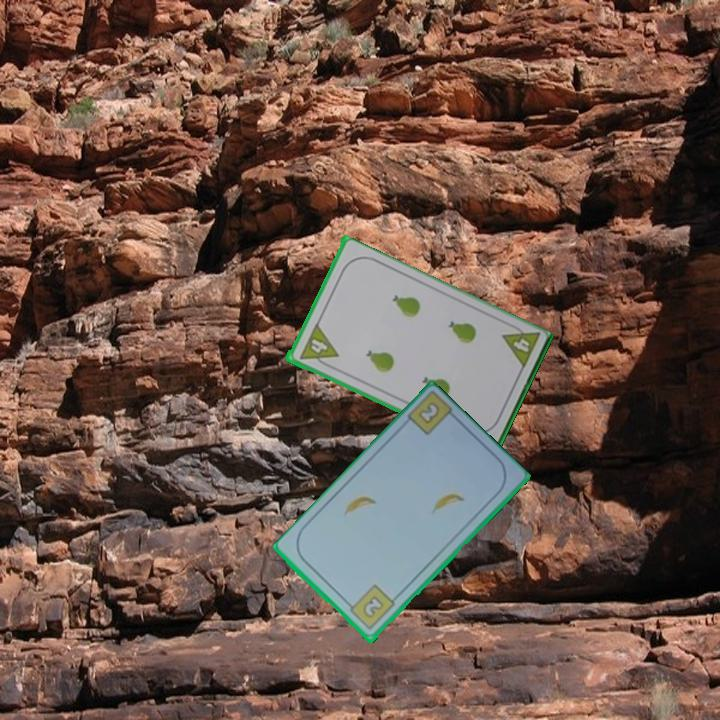2b: (343, 581, 398, 633), (415, 399, 443, 428)
4p: (498, 319, 543, 373), (296, 321, 340, 371)
